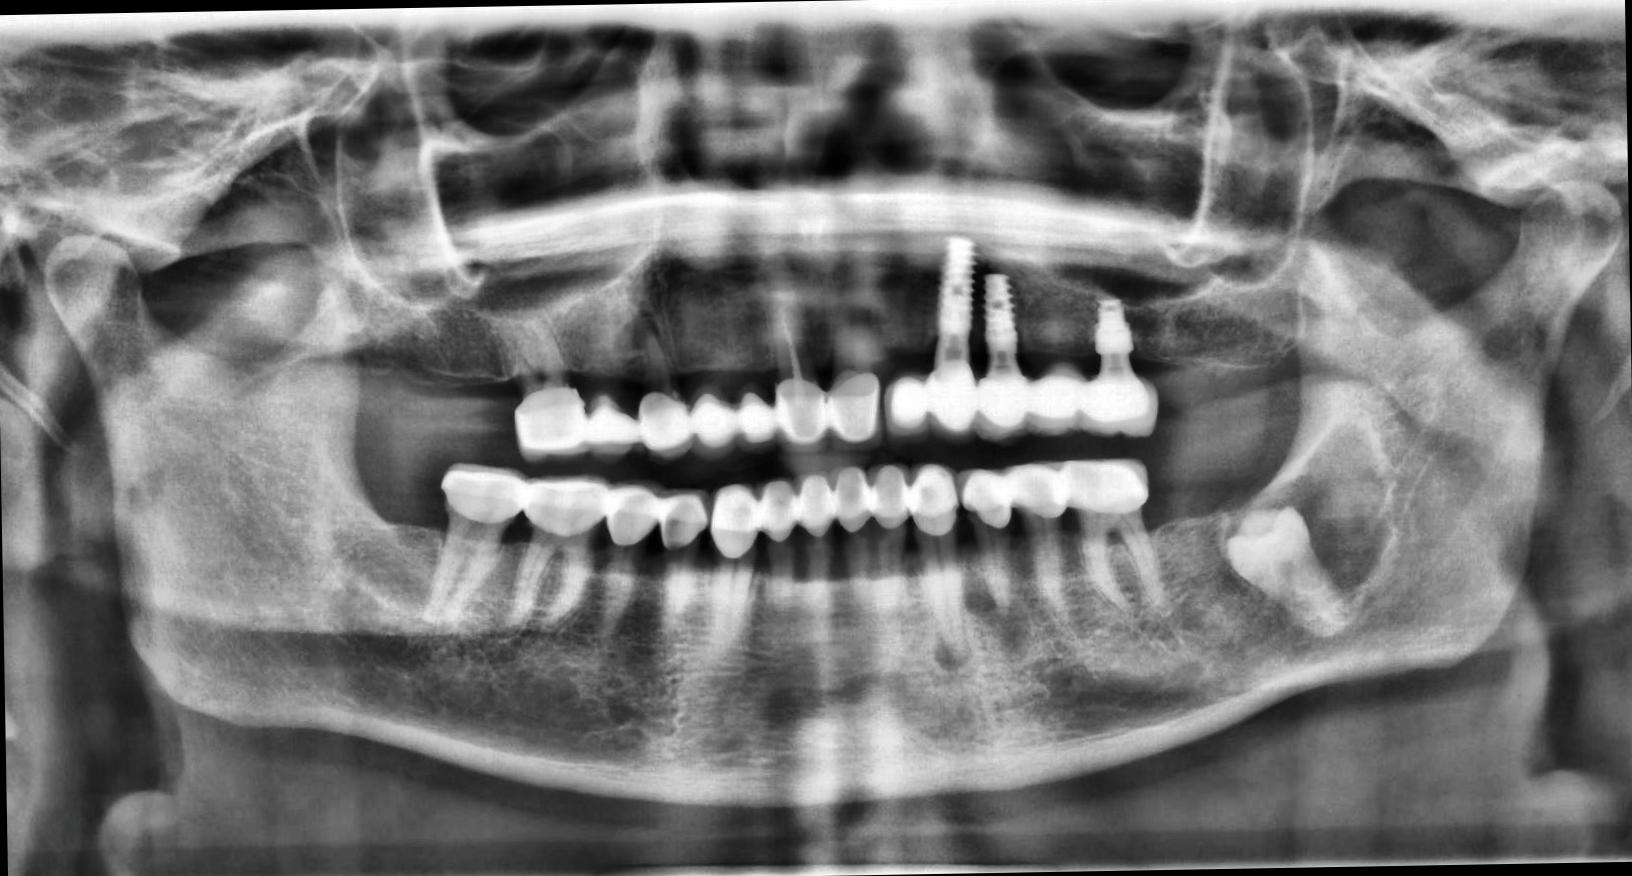keratokist: (1222, 412, 1391, 614)
radikuler: (933, 633, 973, 675)
